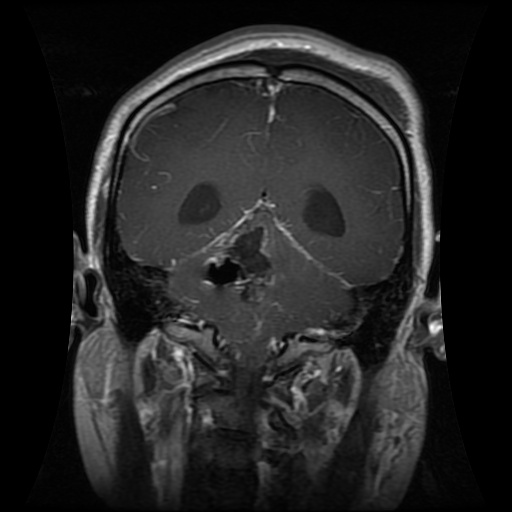glioma: (198, 198, 284, 305)
